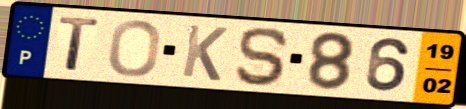6: (364, 36, 412, 94)
8: (304, 30, 356, 93)
K: (179, 22, 230, 84)
O: (106, 18, 163, 79)
S: (233, 25, 293, 89)
T: (55, 15, 102, 73)
